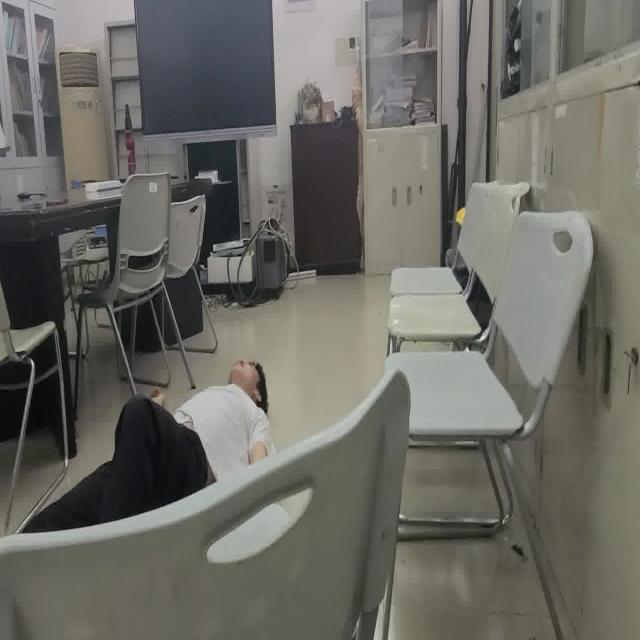Fall-Detected: (0, 357, 274, 541)
